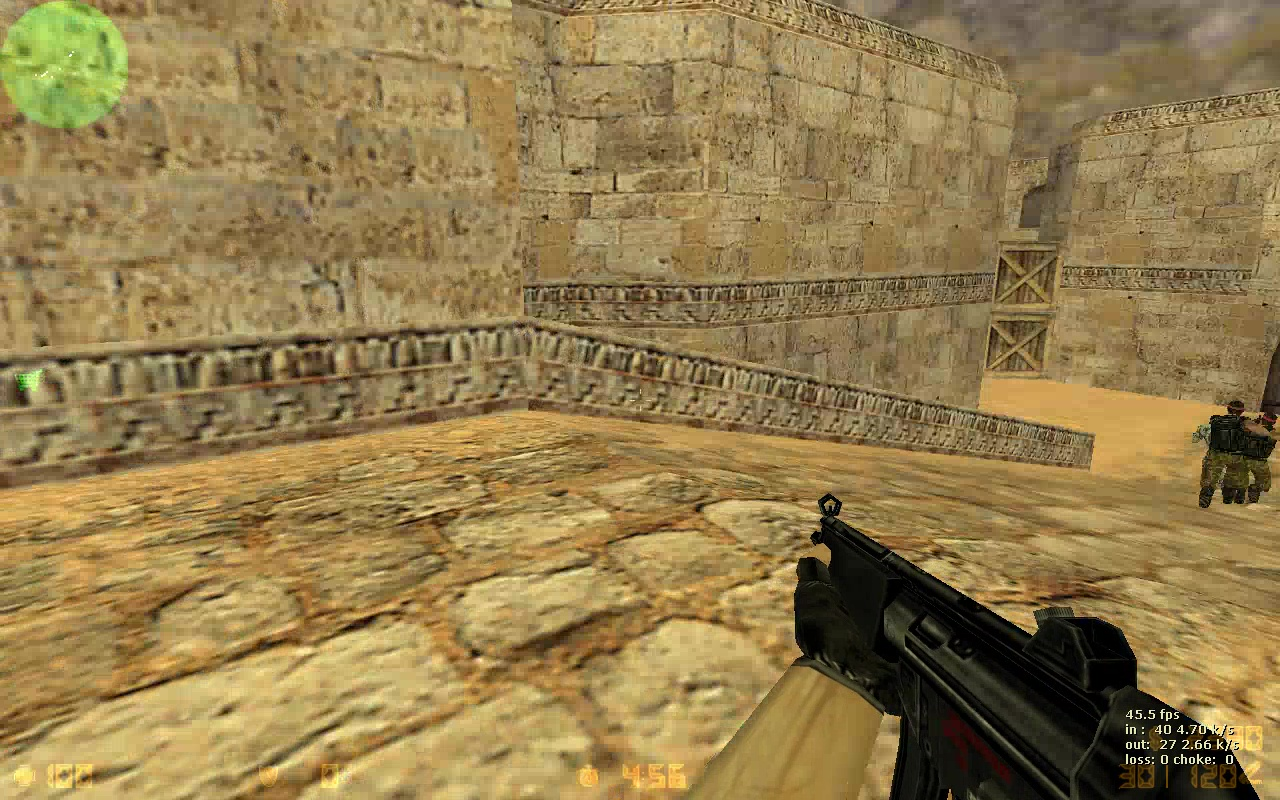terr1: (1205, 403, 1249, 513), (1243, 407, 1277, 513)
